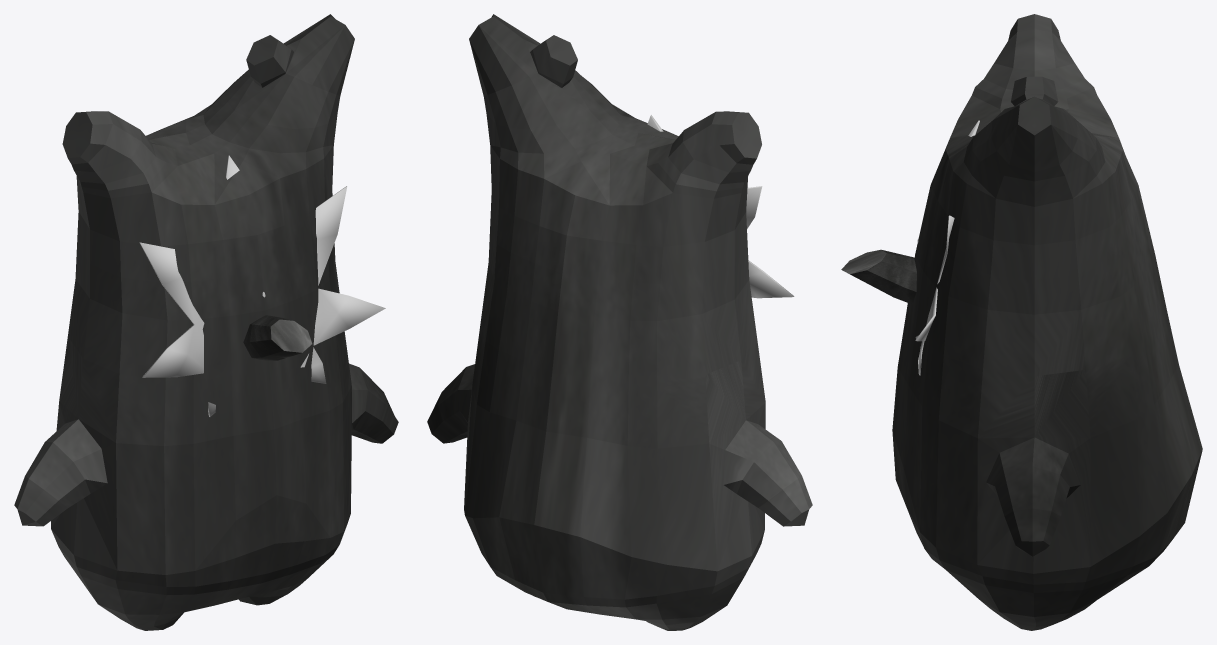
File: frame_0021.obj
3 views of the same model, side by side, from view 1: azimuth 30°, elevation 25°; view 2: azimuth 150°, elevation 25°; view 3: azimuth 270°, elevation 25° (orthographic).
Parts seen in each view (by area): view 1: korok, leaf.003_柱体.013, nose.003_柱体.011; view 2: korok, leaf.003_柱体.013; view 3: korok, nose.003_柱体.011, leaf.003_柱体.013.
Boxes of the visible parts, left/top/right/bottom form: korok: left=14, top=14, right=398, bottom=630; leaf.003_柱体.013: left=139, top=155, right=385, bottom=416; nose.003_柱体.011: left=243, top=315, right=312, bottom=360; korok: left=427, top=14, right=812, bottom=630; leaf.003_柱体.013: left=647, top=115, right=794, bottom=298; korok: left=892, top=14, right=1202, bottom=630; nose.003_柱体.011: left=841, top=249, right=916, bottom=304; leaf.003_柱体.013: left=915, top=120, right=979, bottom=375.
Size of the model in its own units: 1.64 by 2.35 by 1.36.
